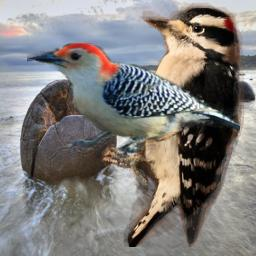Woodpecker: (99, 0, 244, 247), (27, 43, 240, 159)
